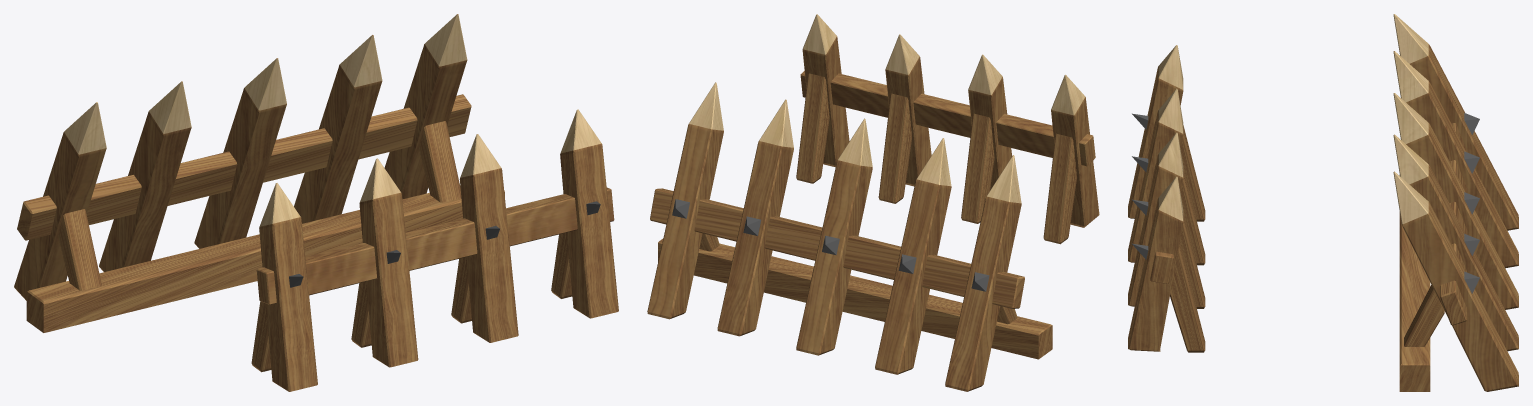
Rendered from bariyer.fbx.
3 views of the same model, side by side, from view 1: azimuth 30°, elevation 25°; view 2: azimuth 150°, elevation 25°; view 3: azimuth 270°, elevation 25° (orthographic). The views are drawn at different scales.
Visible parts, largest first — view 1: pCube18, polySurface12, pCube1, pCube4, pCube17, pCube11, polySurface9; view 2: pCube18, polySurface12, polySurface9, pCube4, pCube1, pCube17, pCube11; view 3: pCube18, polySurface12, polySurface9, pCube1, pCube4, pCube11, pCube17.
Boxes of the visible parts, box(x1,y1,x2,y2) form: pCube18: box(14, 14, 467, 300); polySurface12: box(259, 109, 618, 391); pCube1: box(26, 185, 504, 332); pCube4: box(17, 94, 471, 240); pCube17: box(256, 187, 614, 304); pCube11: box(58, 121, 461, 290); polySurface9: box(251, 232, 572, 372); pCube18: box(647, 82, 1021, 391); polySurface12: box(802, 14, 1099, 227); polySurface9: box(796, 73, 1076, 244); pCube4: box(650, 188, 1024, 308); pCube1: box(658, 238, 1052, 359); pCube17: box(800, 71, 1095, 166); pCube11: box(699, 233, 1017, 324); pCube18: box(1393, 14, 1518, 391); polySurface12: box(1128, 45, 1183, 351); polySurface9: box(1170, 125, 1205, 352); pCube1: box(1399, 175, 1430, 391); pCube4: box(1440, 123, 1467, 325); pCube11: box(1404, 285, 1444, 346); pCube17: box(1150, 120, 1173, 283).
Size of the model in its own units: 1567 by 777 by 1283.
10 materials, 9 textured.
